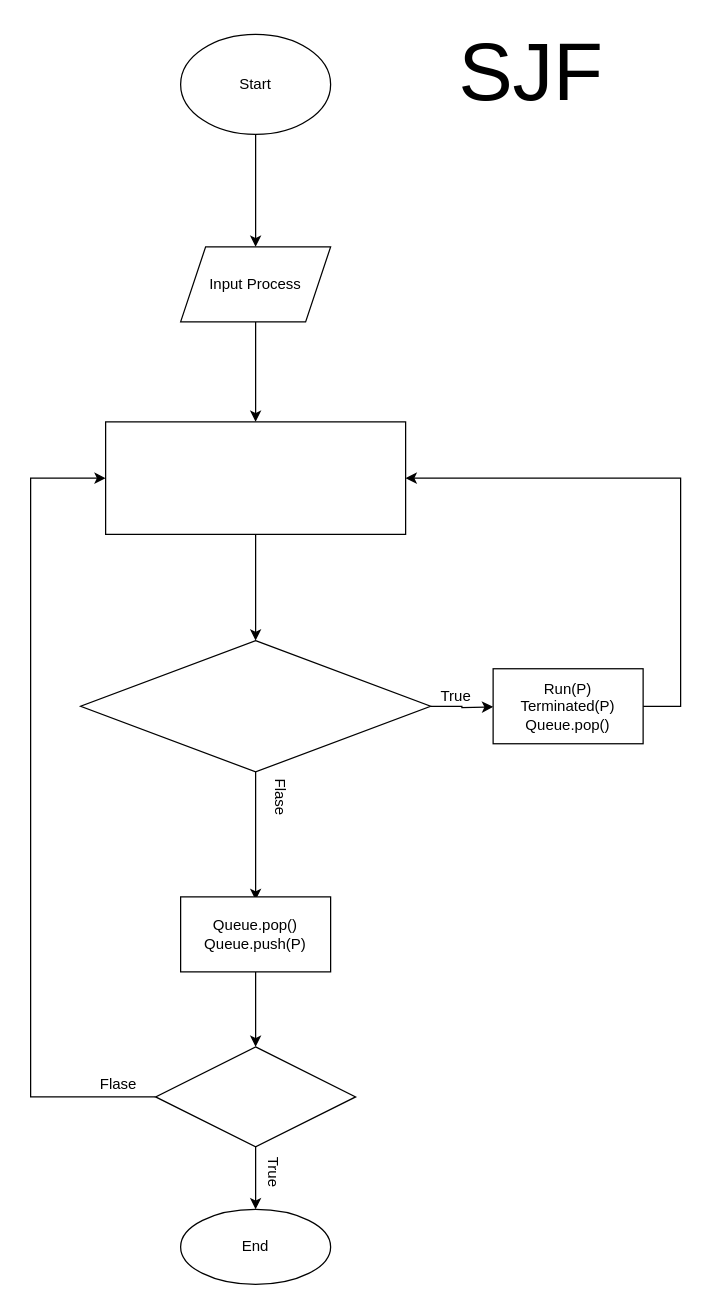
This 713x1306 diagram has some shape labels left out. The centre of each missing label's shape, as x and y in pixels:
P.Burst=Min[Queue(i).Burst,...] && Queue.size()!=0: pixel 255 705
Queue.Push(Process(Ready)) P=Queue.font(): pixel 255 477
Queue.size=0: pixel 255 1096
